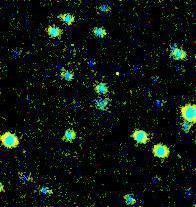star: (180, 57, 196, 87)
